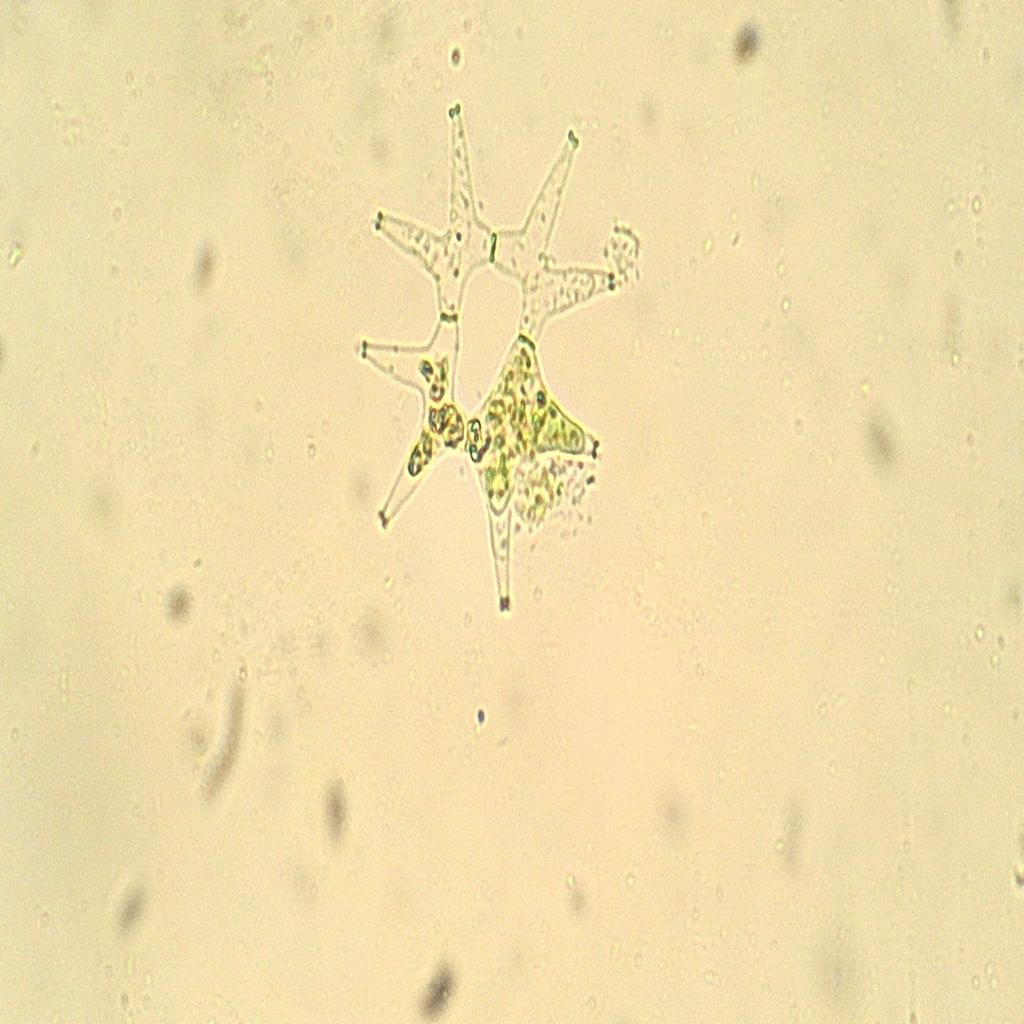Pediastrum_75TH: (337, 85, 645, 636)
